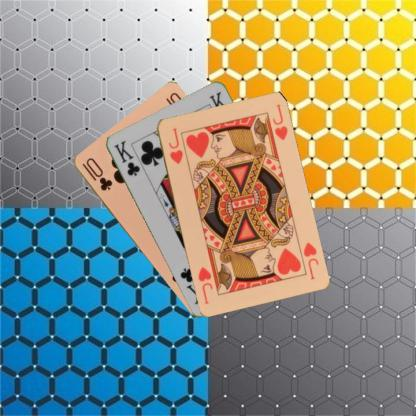10c: (79, 155, 114, 192)
Jh: (300, 239, 320, 281), (165, 125, 184, 166)
Kc: (111, 138, 141, 178)
